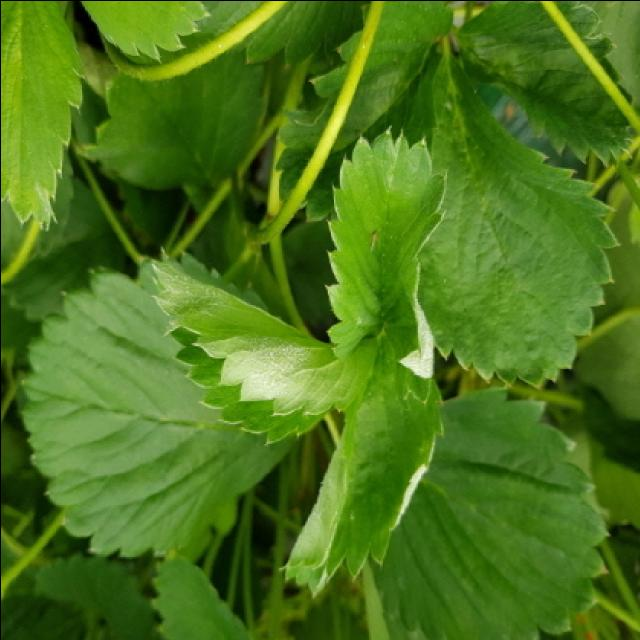Powdery Mildew Leaf: (145, 245, 347, 443), (279, 373, 444, 599), (322, 128, 450, 411)
